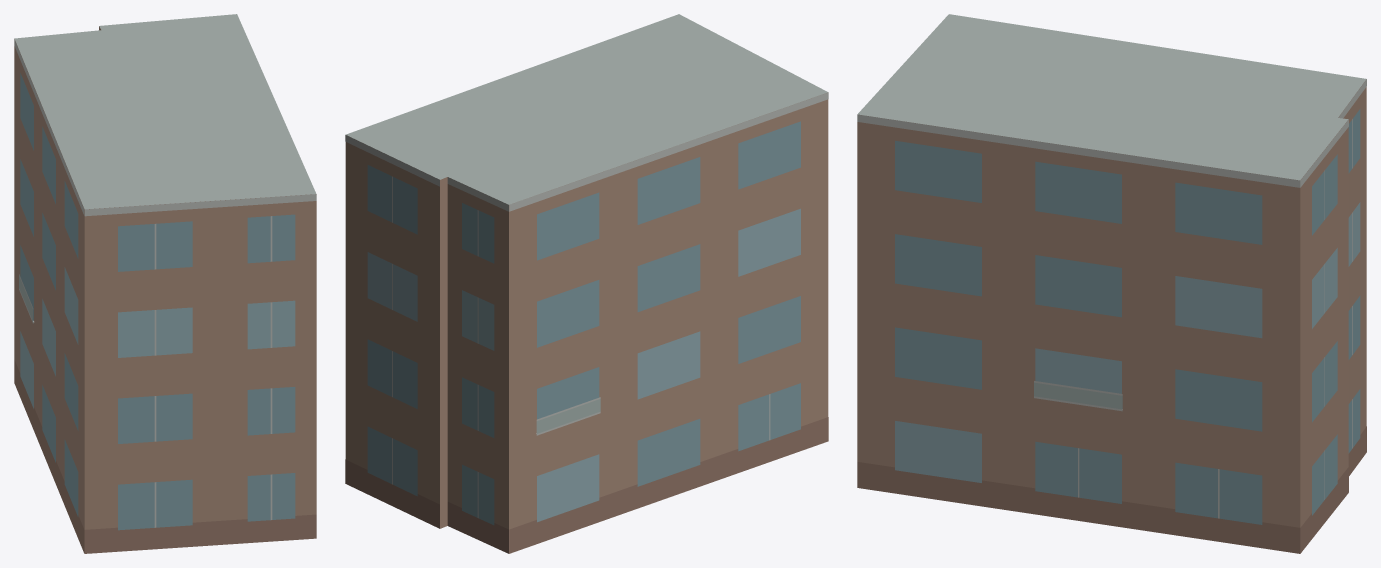
File: survey-upis-32623617.glb
3 renders of one model, left to right at view 1: azimuth 30°, elevation 25°; view 2: azimuth 150°, elevation 25°; view 3: azimuth 270°, elevation 25°, orthographic. The views are drawn at different scales.
Visible parts, largest first — view 1: survey-upis-32623617.tmp; view 2: survey-upis-32623617.tmp; view 3: survey-upis-32623617.tmp.
Boxes of the visible parts, <box> form: survey-upis-32623617.tmp: <box>14,14,316,553</box>; survey-upis-32623617.tmp: <box>345,14,828,553</box>; survey-upis-32623617.tmp: <box>857,14,1366,553</box>.
Size of the model in its own units: 11.67 by 12.2 by 15.09.
